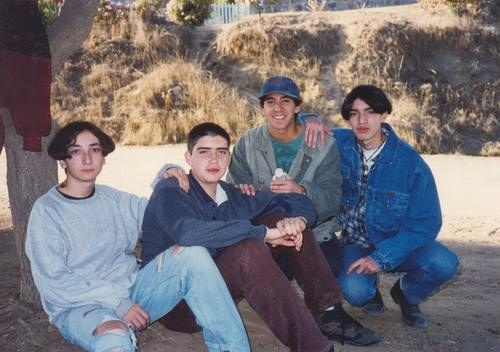head: (58, 119, 112, 184), (340, 85, 390, 145), (186, 123, 234, 184), (261, 73, 304, 134)
person: (25, 118, 261, 349), (147, 113, 350, 352), (312, 81, 459, 336), (234, 69, 341, 194)
